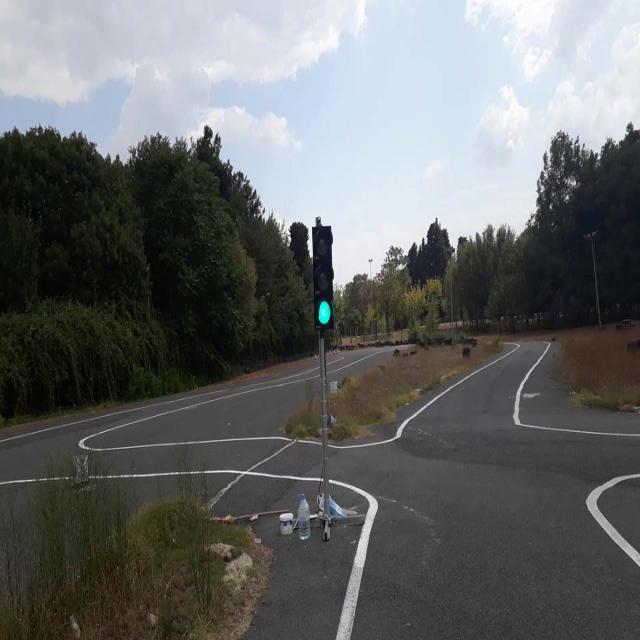yesil: (311, 225, 334, 328)
